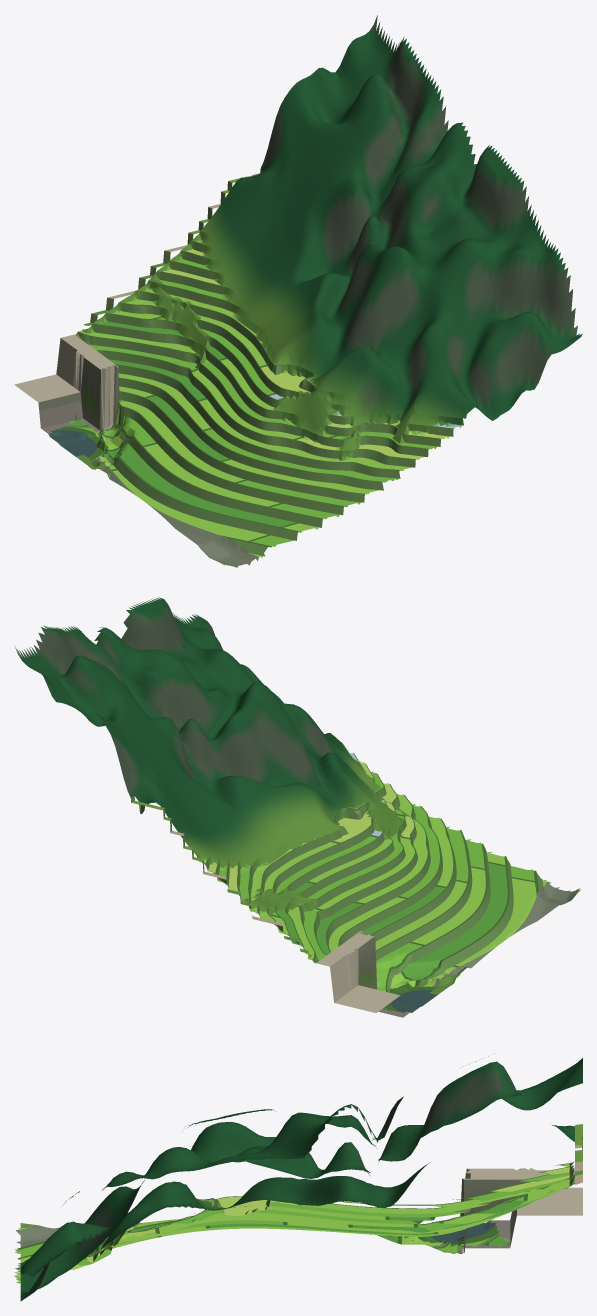
File: payo_land_xm1_y0.glb
3 renders of one model, top to bottom at view 1: azimuth 30°, elevation 25°; view 2: azimuth 150°, elevation 25°; view 3: azimuth 270°, elevation 25°, orthographic. The views are drawn at different scales.
Visible parts, largest first — view 1: payo_land_xm1_y0; view 2: payo_land_xm1_y0; view 3: payo_land_xm1_y0.
Part boxes in pixels (left/top/right/bottom): payo_land_xm1_y0: left=14, top=15, right=582, bottom=567; payo_land_xm1_y0: left=15, top=597, right=581, bottom=1017; payo_land_xm1_y0: left=14, top=1056, right=582, bottom=1301.
Size of the model in its own units: 258 by 214 by 258.
